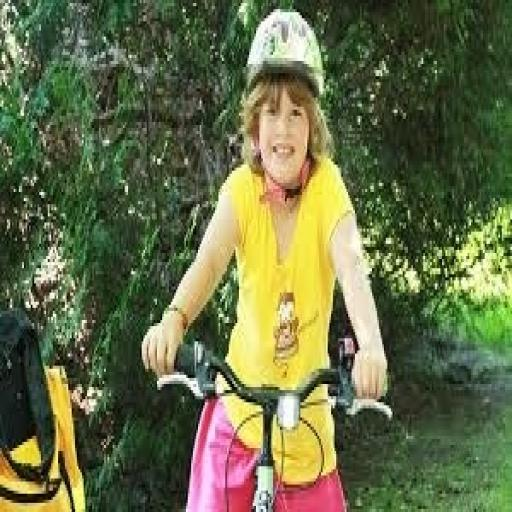cycling: (138, 6, 393, 509)
